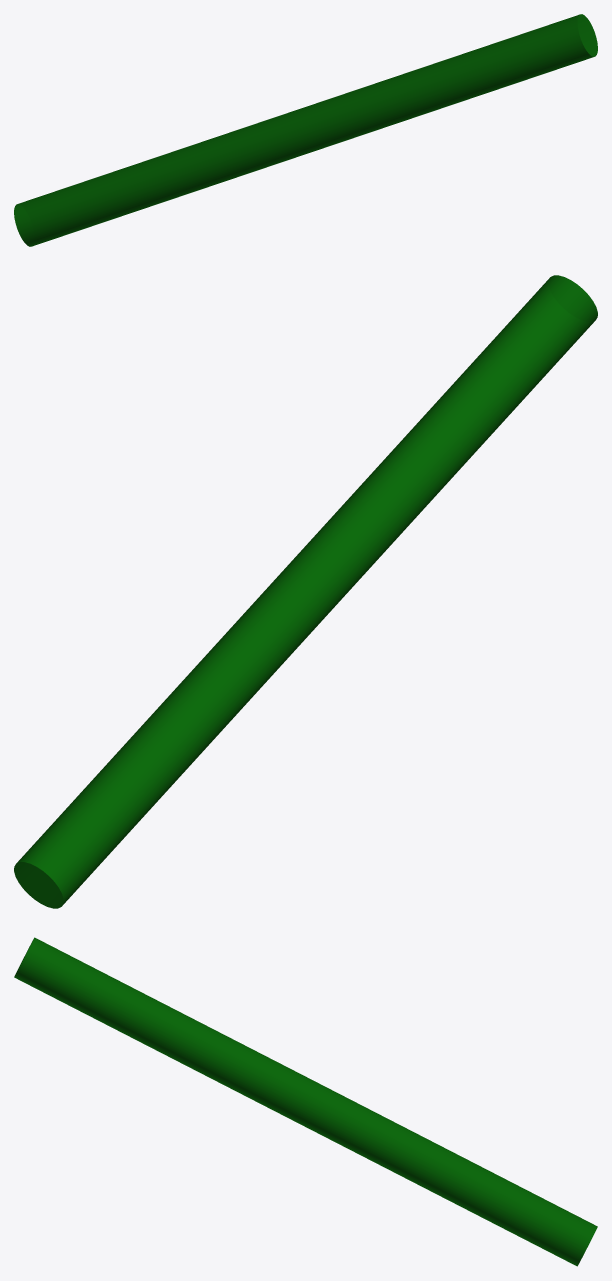
The model's file is Event_134295681_jet_4.fbx.
The picture shows the model from 3 angles, top to bottom: view 1: azimuth 90°, elevation 25°; view 2: azimuth 150°, elevation 25°; view 3: azimuth 270°, elevation 25°; orthographic projection. The views are drawn at different scales.
Parts seen in each view (by area): view 1: Model; view 2: Model; view 3: Model.
Boxes of the visible parts, bbox=[...] form: Model: bbox=[14, 14, 597, 246]; Model: bbox=[14, 275, 597, 908]; Model: bbox=[14, 937, 597, 1266].
Size of the model in its own units: 0.1436 by 0.2714 by 0.5192.
